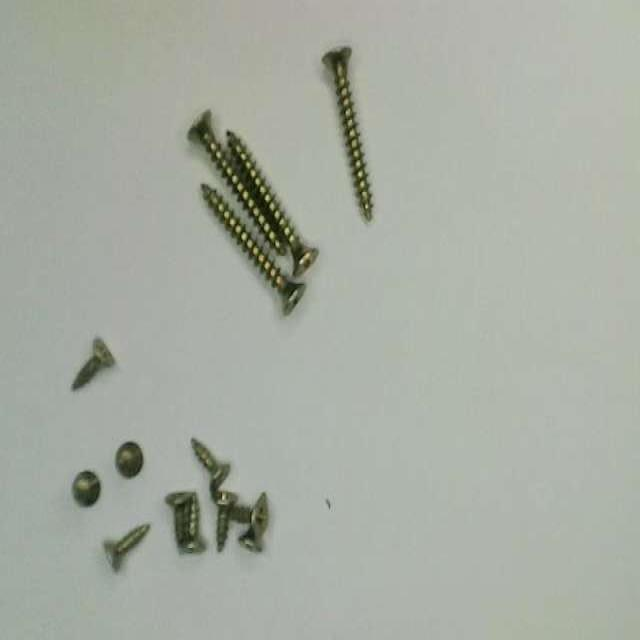Parafuso: (187, 110, 284, 254), (201, 183, 305, 315), (227, 131, 318, 277), (322, 46, 372, 221), (72, 338, 114, 390), (103, 524, 149, 571), (191, 438, 229, 493), (210, 480, 237, 551), (231, 492, 268, 534), (180, 494, 205, 553), (165, 492, 190, 550), (115, 442, 143, 478), (72, 470, 100, 506), (238, 526, 261, 551)
